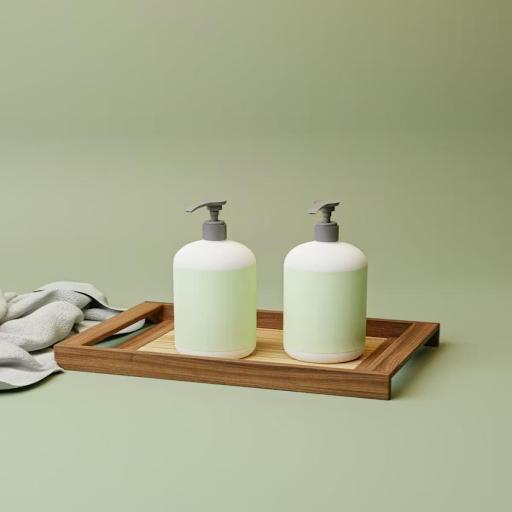bottle: (155, 197, 276, 378), (270, 190, 382, 368)
